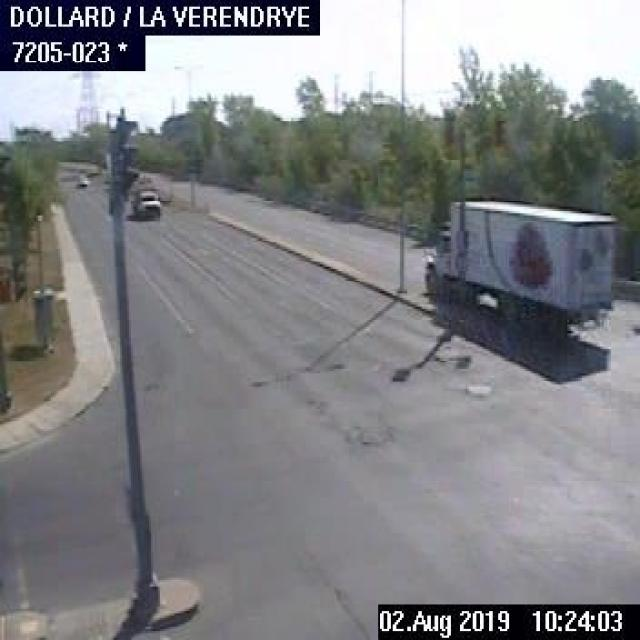vehicle: (418, 194, 614, 344), (128, 189, 158, 218), (73, 173, 89, 189)
